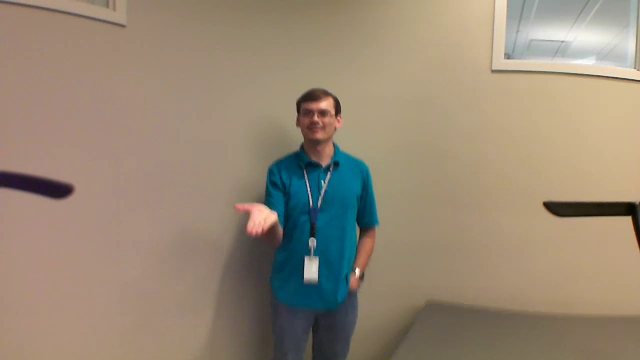land: (218, 185, 283, 243)
